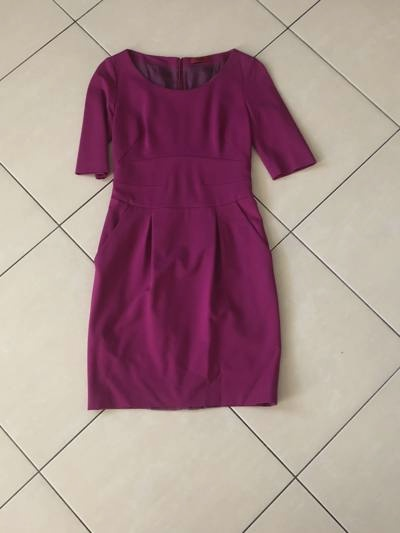Dress: (55, 24, 312, 432)
